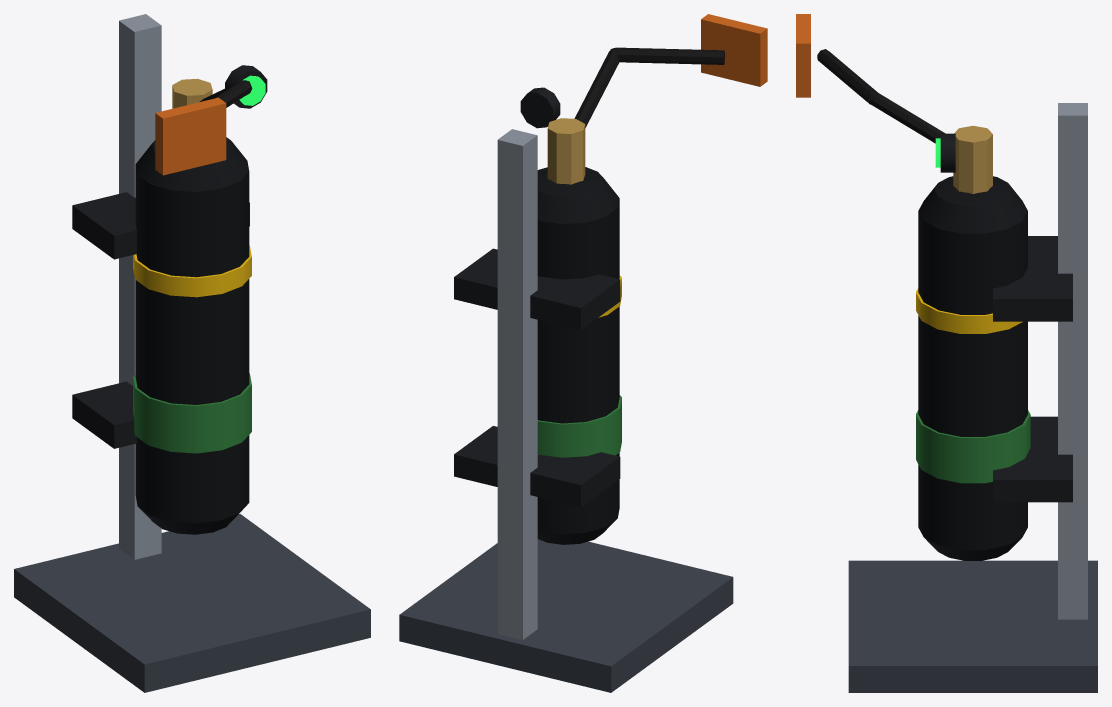
The model's file is cylinder_emergency_air_bottle.glb.
3 views of the same model, side by side, from view 1: azimuth 30°, elevation 25°; view 2: azimuth 150°, elevation 25°; view 3: azimuth 270°, elevation 25° (orthographic). The views are drawn at different scales.
Parts seen in each view (by area): view 1: cylinder_emergency_air_bottle; view 2: cylinder_emergency_air_bottle; view 3: cylinder_emergency_air_bottle.
Boxes of the visible parts, box(x1,y1,x2,y2) form: cylinder_emergency_air_bottle: box(14, 14, 370, 692); cylinder_emergency_air_bottle: box(399, 14, 767, 692); cylinder_emergency_air_bottle: box(796, 14, 1097, 692).
Bounding box in the file's own units: 0.52 × 1.26 × 0.605.
